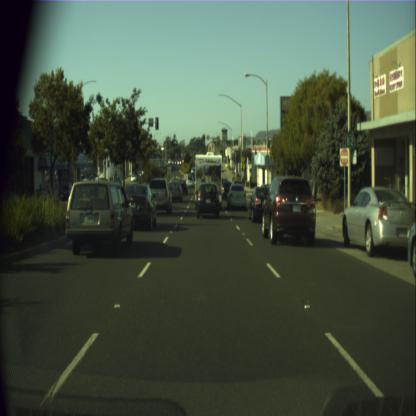Green: (248, 152, 251, 163), (202, 134, 204, 142)
